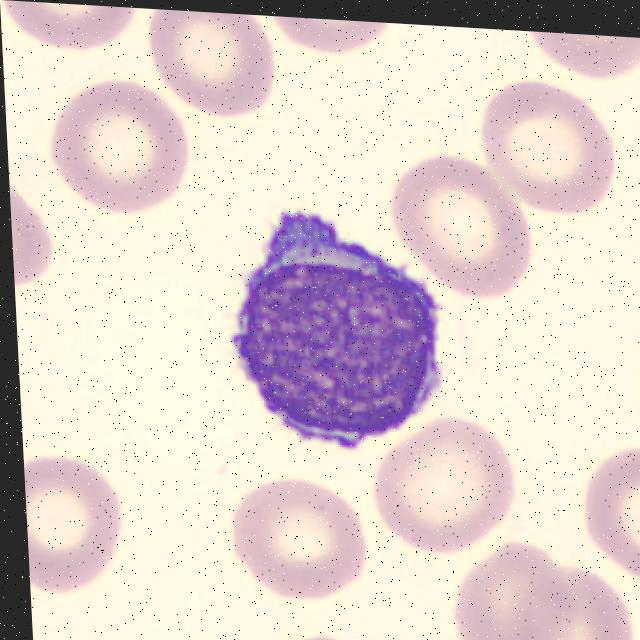lymphocyte: (228, 213, 452, 454)
rbc: (57, 79, 204, 215), (475, 69, 610, 207), (377, 421, 518, 553), (396, 149, 526, 291), (230, 483, 373, 595), (143, 9, 283, 117), (24, 456, 127, 597), (451, 534, 575, 640), (581, 443, 640, 595), (2, 0, 144, 59), (526, 571, 640, 640), (528, 32, 640, 78), (264, 16, 390, 56), (10, 183, 53, 295), (267, 634, 387, 640), (637, 334, 640, 430)
